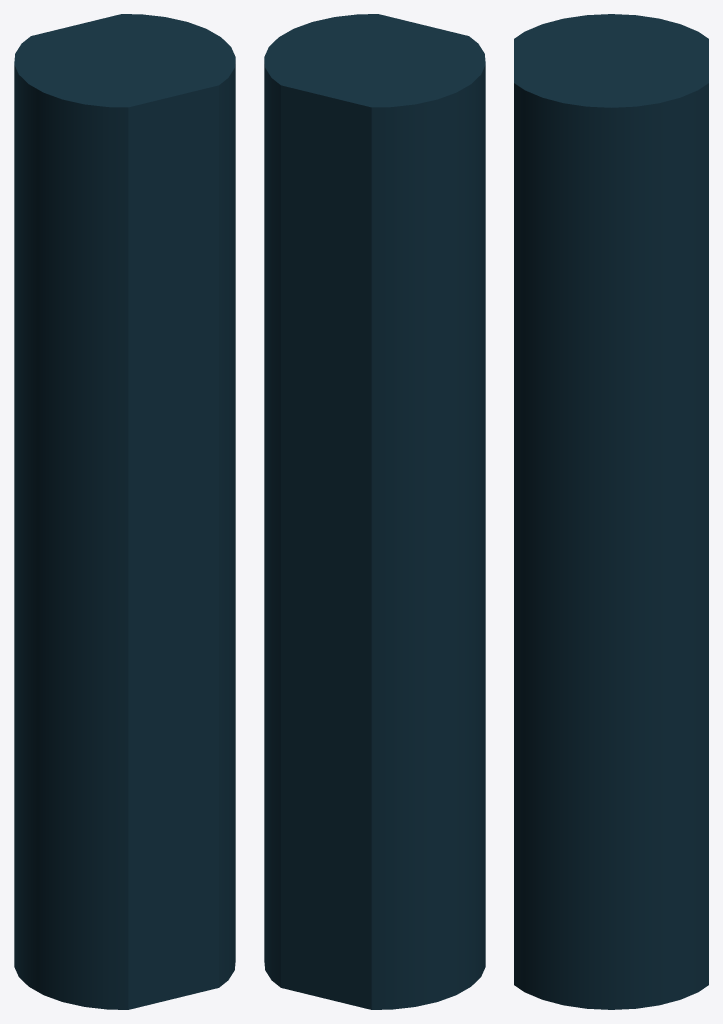
File: W1_Column.fbx
The picture shows the model from 3 angles, left to right: view 1: azimuth 30°, elevation 25°; view 2: azimuth 150°, elevation 25°; view 3: azimuth 270°, elevation 25°; orthographic projection.
Visible parts, largest first — view 1: W1_Column.001; view 2: W1_Column.001; view 3: W1_Column.001.
Boxes of the visible parts, box(x1,y1,x2,y2) form: W1_Column.001: box(14, 14, 235, 1009); W1_Column.001: box(264, 14, 485, 1009); W1_Column.001: box(514, 14, 708, 1009).
Size of the model in its own units: 0.4908 by 2.2 by 0.4306.
